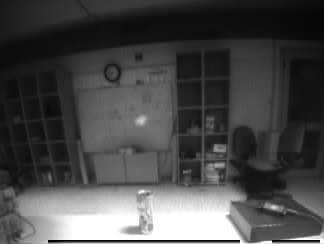Tin can: (137, 189, 153, 232)
